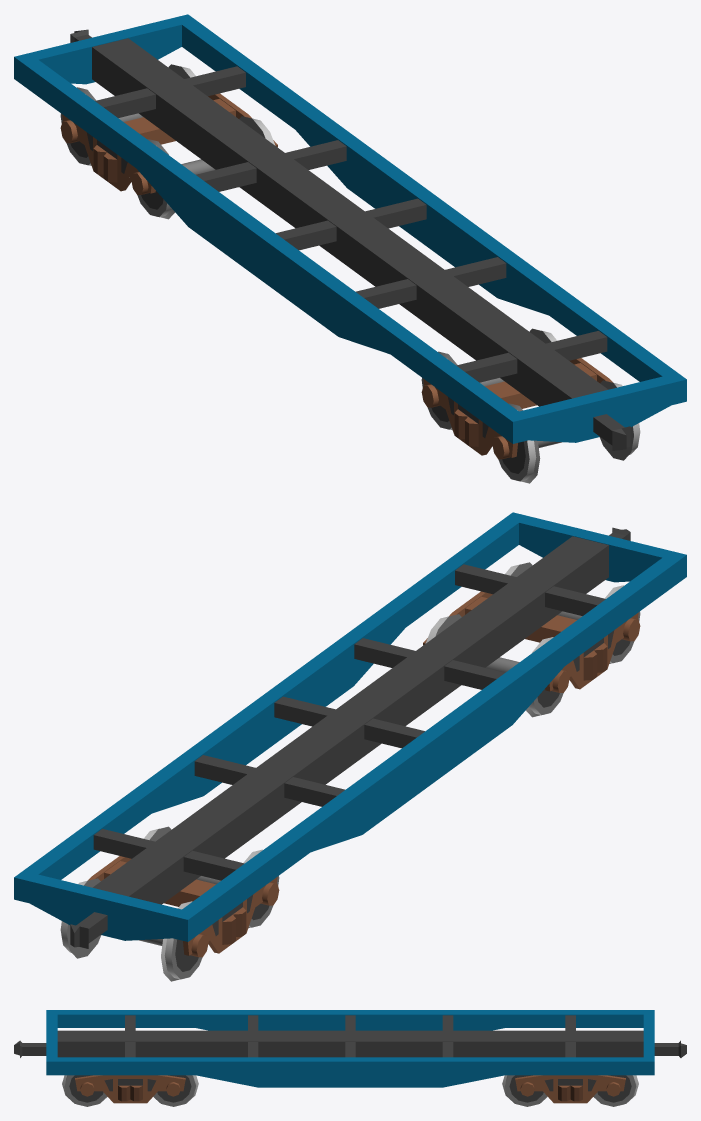
Rendered from platform_1A.glb.
3 renders of one model, top to bottom at view 1: azimuth 30°, elevation 25°; view 2: azimuth 150°, elevation 25°; view 3: azimuth 270°, elevation 25°, orthographic. The views are drawn at different scales.
Visible parts, largest first — view 1: platform_1A; view 2: platform_1A; view 3: platform_1A.
Boxes of the visible parts, x1,y1,x2,y2 form: platform_1A: (14, 14, 686, 483); platform_1A: (14, 512, 686, 981); platform_1A: (14, 1010, 686, 1106).
Bounding box in the file's own units: 2.7 × 1.39 × 14.83.
Materials: 1 (1 with a texture image).
